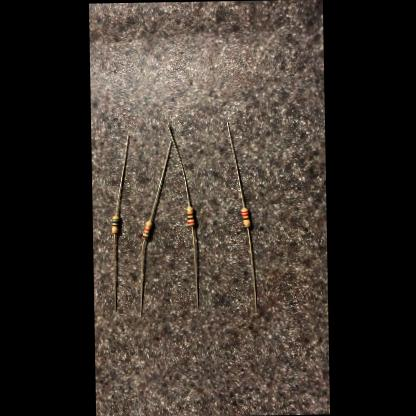resistor: (141, 220, 152, 238), (240, 206, 249, 227), (185, 206, 193, 226), (111, 214, 118, 233)
wire: (147, 140, 172, 220), (166, 123, 188, 204), (225, 121, 243, 206), (114, 133, 130, 214), (246, 226, 256, 310), (190, 226, 198, 306), (138, 237, 145, 314), (113, 232, 116, 308)
